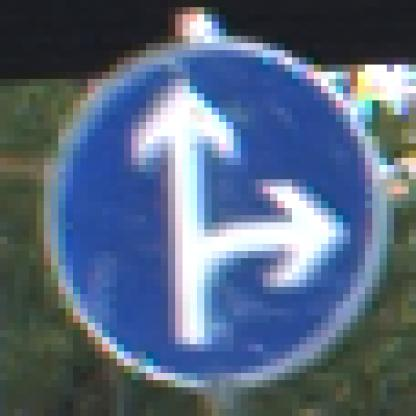Straight or Right: (38, 37, 381, 381)
